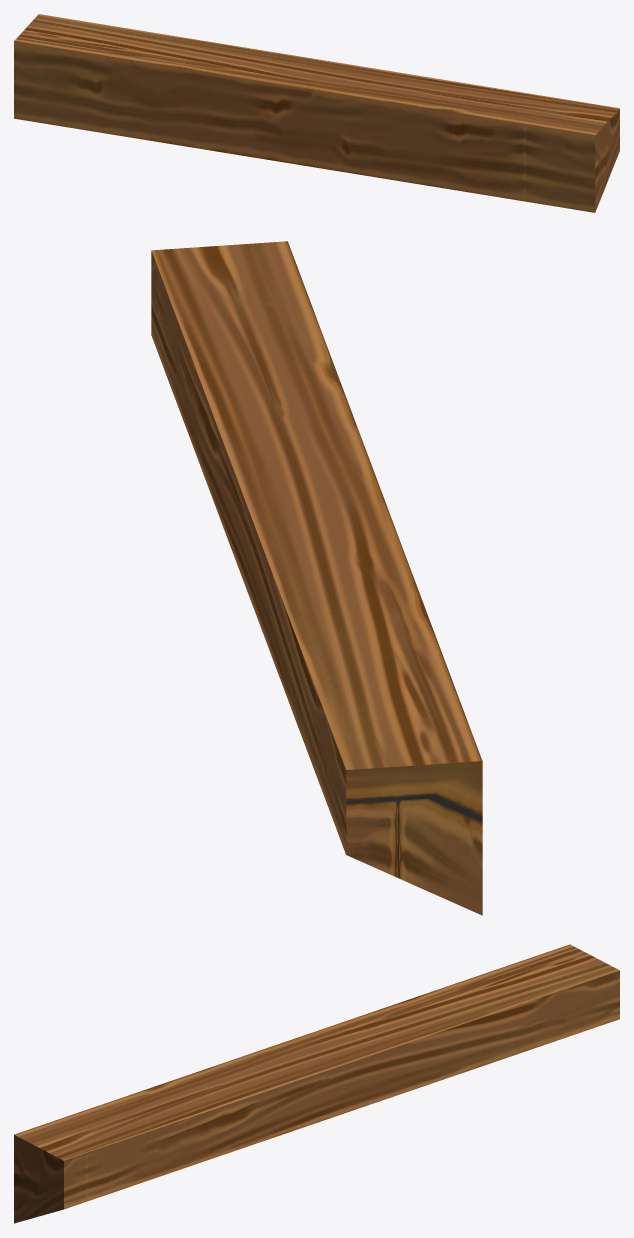
3 renders of one model, top to bottom at view 1: azimuth 30°, elevation 25°; view 2: azimuth 150°, elevation 25°; view 3: azimuth 270°, elevation 25°, orthographic. The views are drawn at different scales.
Parts seen in each view (by area): view 1: Cube.588; view 2: Cube.588; view 3: Cube.588.
Boxes of the visible parts, x1,y1,x2,y2 form: Cube.588: (14,14,619,212); Cube.588: (151,241,482,915); Cube.588: (14,944,619,1223).
Bounding box in the file's own units: 264 × 50.55 × 312.
Materials: 1 (1 with a texture image).
